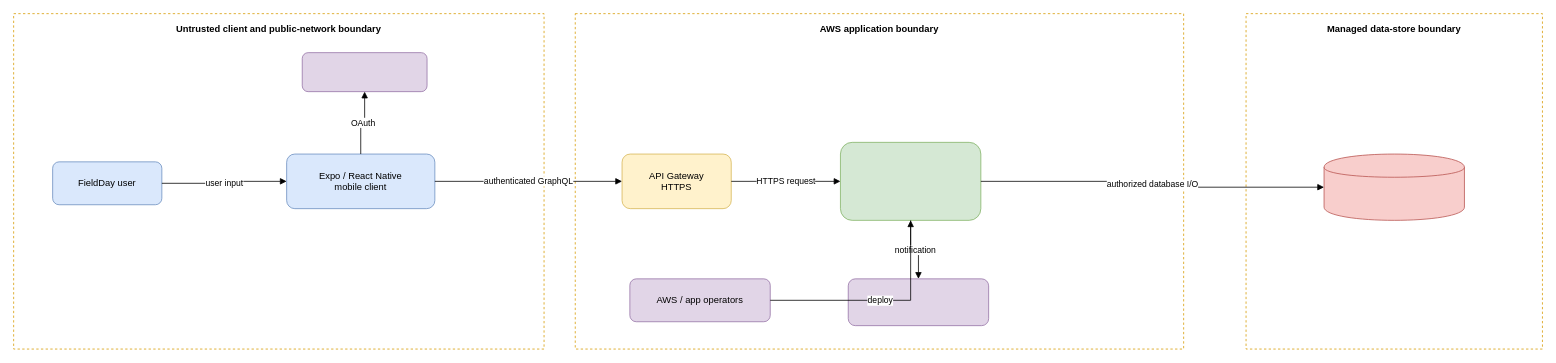
The diagram is 1556 pixels wide and 363 high, and some of its shapes have lost their labels. The shapes that lost their labels are listed below. From the top down, each one's centre as x and y in pixels, then its label:
At (x=364, y=72): "Google OAuth".
At (x=910, y=181): "Node / Express / Apollo GraphQL backend Elastic Beanstalk".
At (x=1393, y=186): "MongoDB Atlas users, sessions, memberships, profiles".
At (x=918, y=302): "Expo push service (future delivery)".
